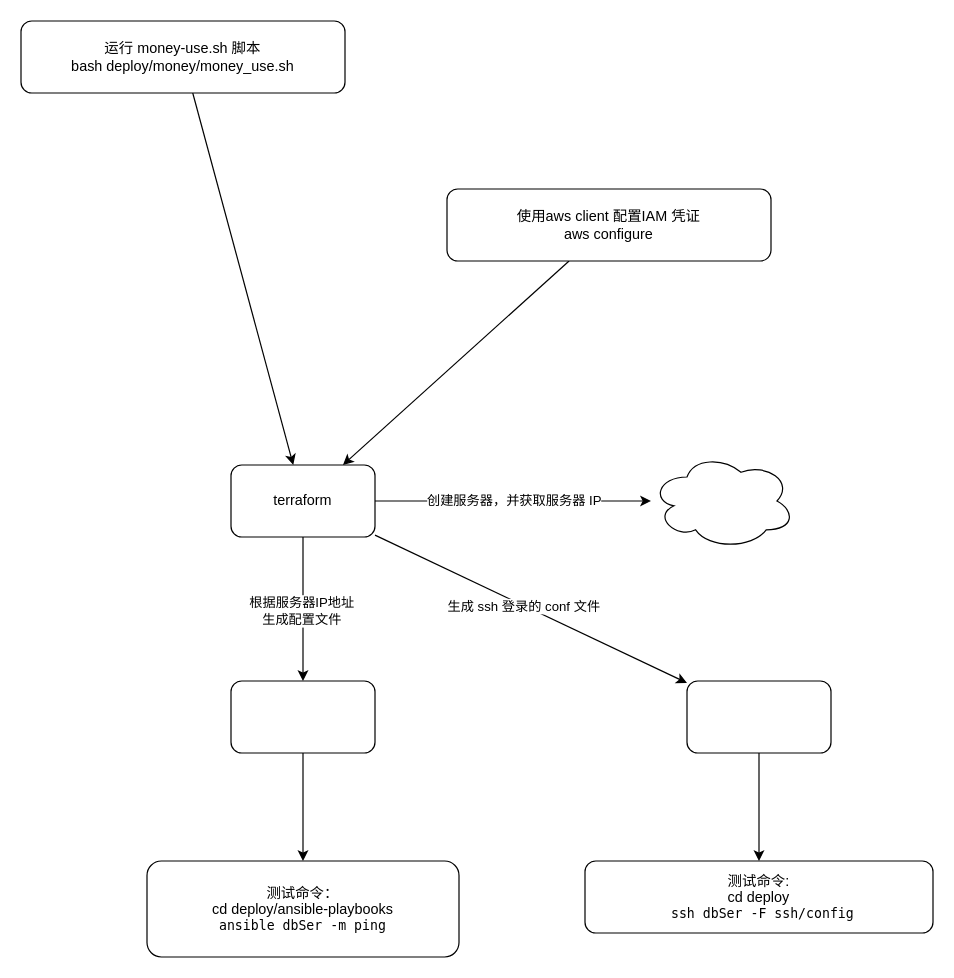
Image size: 954x978. Some labels were removed from this diagram. The box of each missing label's shape, as (x1, y1, x2, y2) in pixels:
ansible: inventory/awsenv.ini: (230, 680, 375, 753)
aws: (650, 452, 795, 549)
ssh config: ssh/config: (686, 680, 831, 753)
